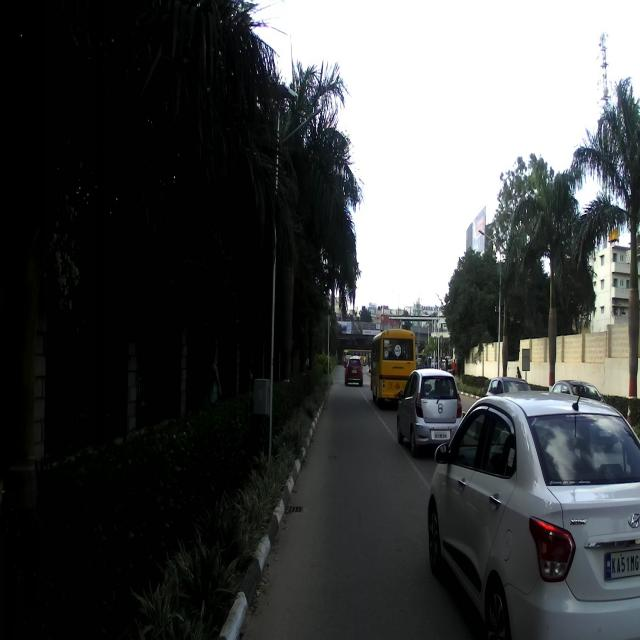Car_Hyundai: (425, 386, 640, 639), (394, 366, 461, 455)
